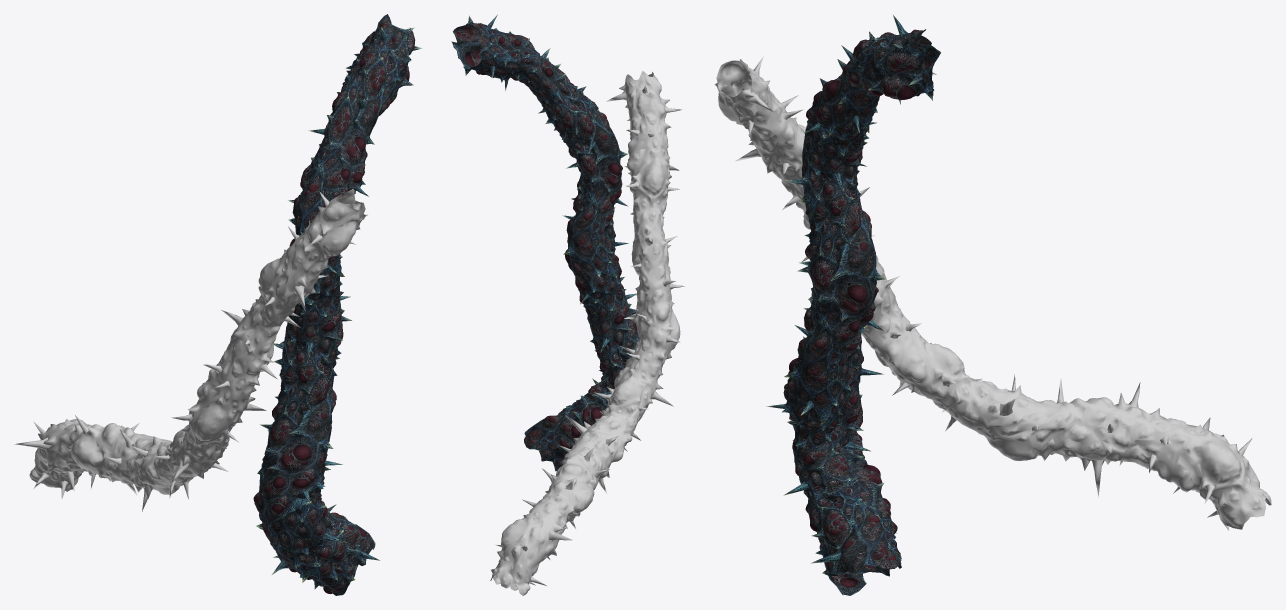
Rendered from backup.fbx.
3 views of the same model, side by side, from view 1: azimuth 30°, elevation 25°; view 2: azimuth 150°, elevation 25°; view 3: azimuth 270°, elevation 25° (orthographic). The views are drawn at different scales.
Parts seen in each view (by area): view 1: LODGroup_1_MainMesh_1_SubMesh_1, LODGroup_1_MainMesh_1_SubMesh_2, LODGroup_1_MainMesh_1_SubMesh_3; view 2: LODGroup_1_MainMesh_1_SubMesh_1, LODGroup_1_MainMesh_1_SubMesh_2, LODGroup_1_MainMesh_1_SubMesh_3; view 3: LODGroup_1_MainMesh_1_SubMesh_1, LODGroup_1_MainMesh_1_SubMesh_2, LODGroup_1_MainMesh_1_SubMesh_3.
Boxes of the visible parts, x1,y1,x2,y2 form: LODGroup_1_MainMesh_1_SubMesh_1: (14,189,367,511); LODGroup_1_MainMesh_1_SubMesh_2: (253,24,422,574); LODGroup_1_MainMesh_1_SubMesh_3: (256,14,391,595); LODGroup_1_MainMesh_1_SubMesh_1: (490,70,684,595); LODGroup_1_MainMesh_1_SubMesh_2: (451,14,639,461); LODGroup_1_MainMesh_1_SubMesh_3: (463,22,631,471); LODGroup_1_MainMesh_1_SubMesh_1: (714,56,1271,530); LODGroup_1_MainMesh_1_SubMesh_2: (766,15,936,573); LODGroup_1_MainMesh_1_SubMesh_3: (782,29,940,595).
Size of the model in its own units: 823 by 1537 by 1256.
